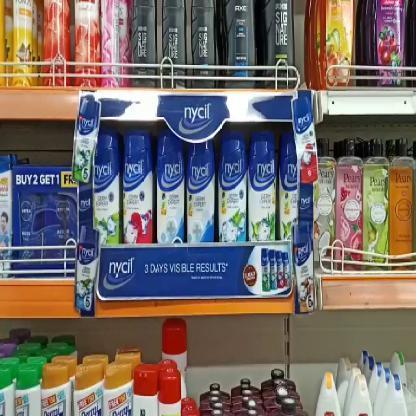Nycil Prickly Heat Powder: (122, 132, 154, 246), (155, 129, 186, 246), (219, 132, 246, 250), (250, 137, 278, 246), (94, 132, 120, 244), (188, 136, 214, 244), (282, 132, 300, 240)
